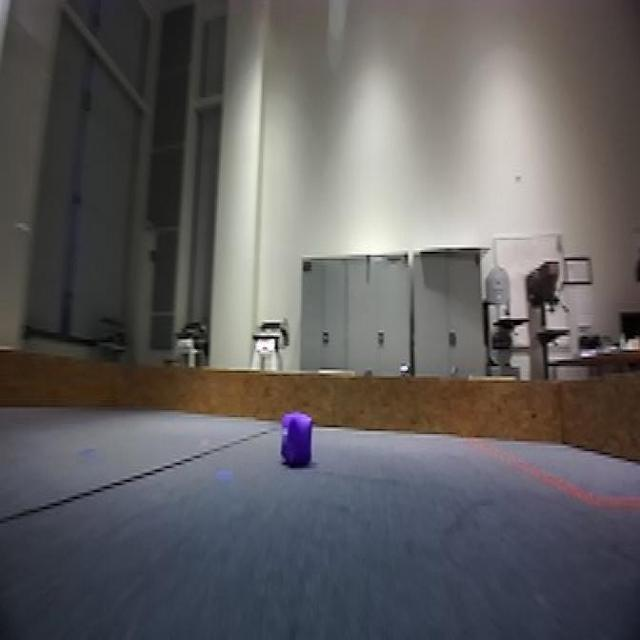frc_cube: (279, 409, 317, 473)
